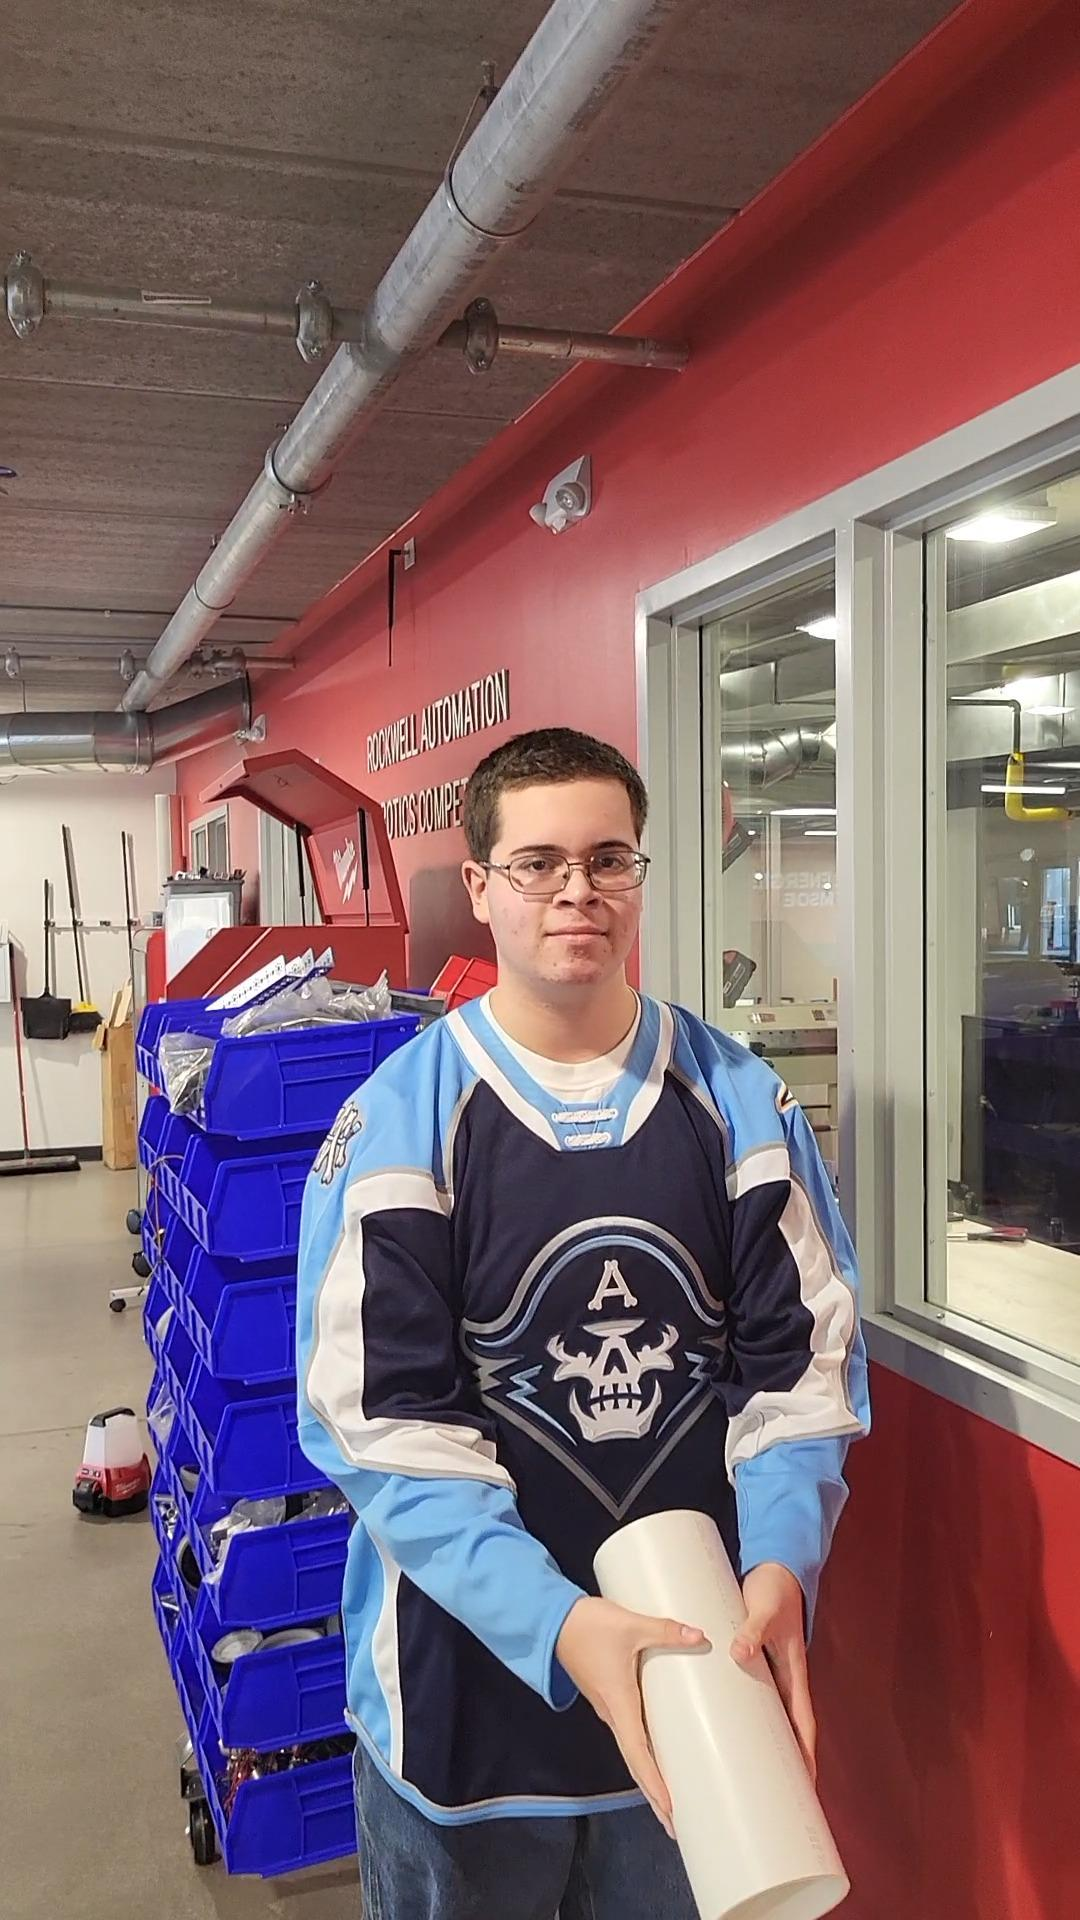coral: (593, 1503, 877, 1920)
